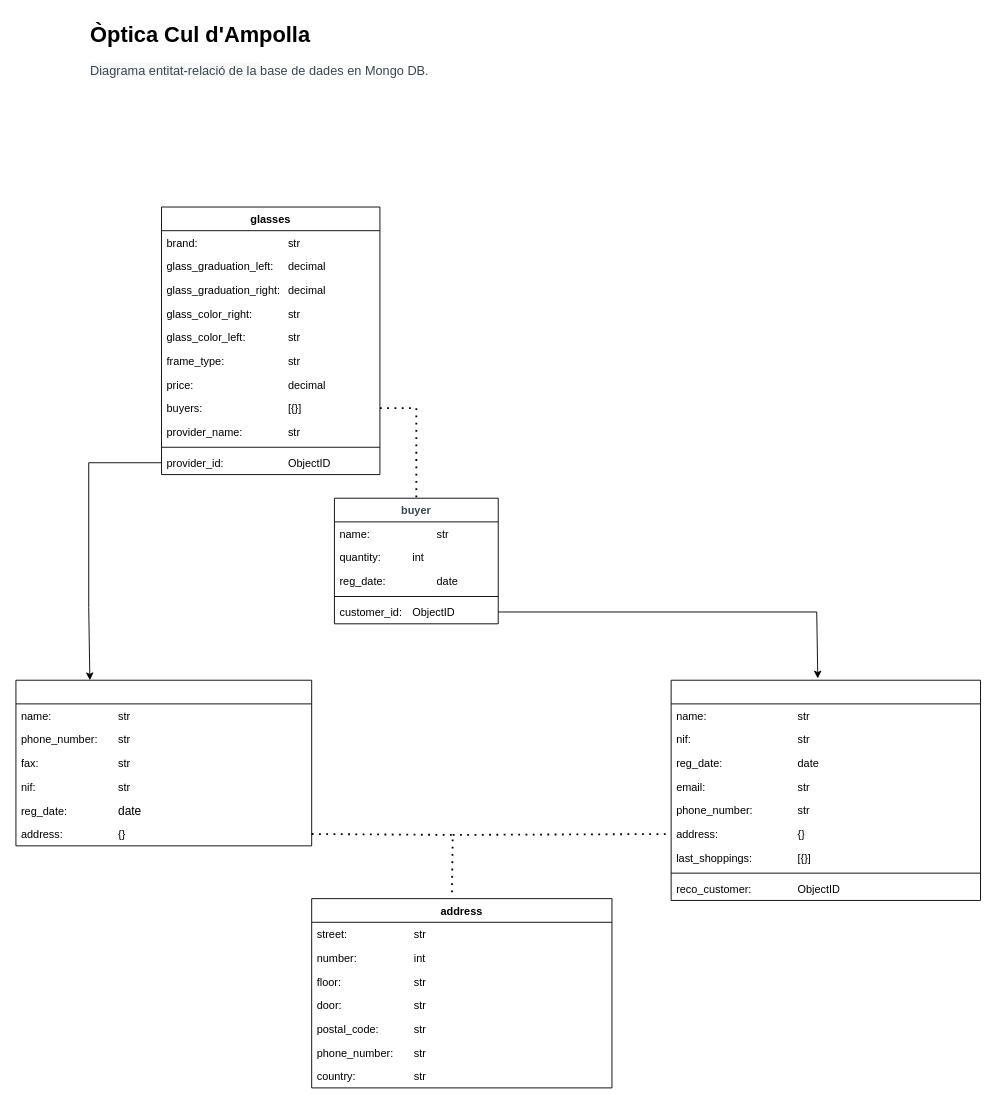
Some shapes in this 996 by 1106 pixel diagram are drawn without their labels. Here are the shapes that lost their labels. From the top down, the box of each, then its label:
(15, 679, 312, 846): provider
(670, 679, 981, 900): customers
